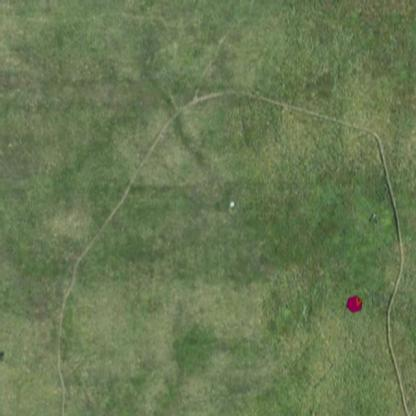V: (355, 296, 363, 307)
hexagon: (345, 294, 363, 313)
